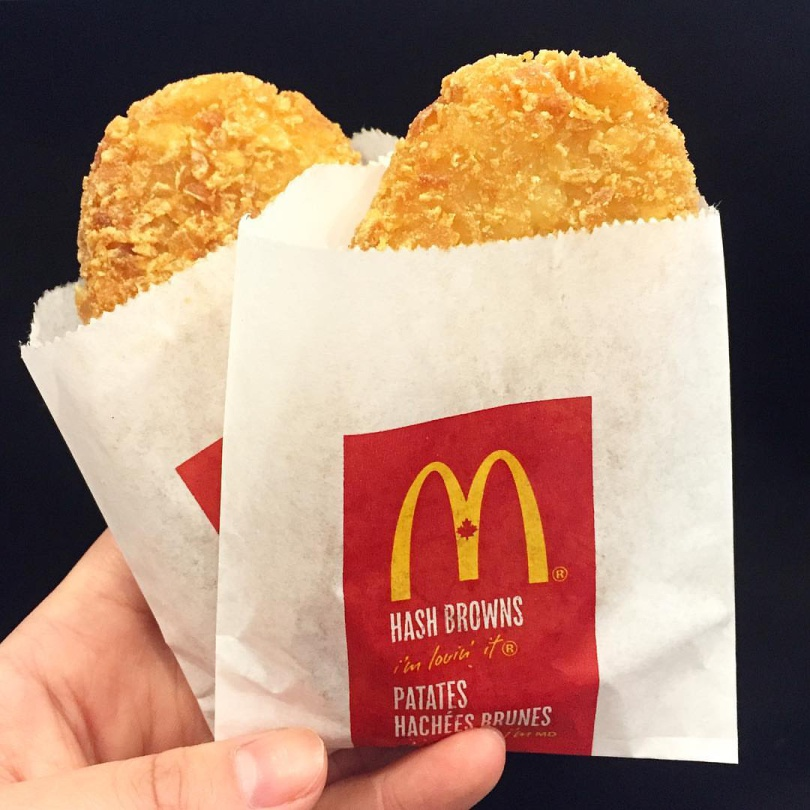mcdonalds: (384, 443, 555, 603)
